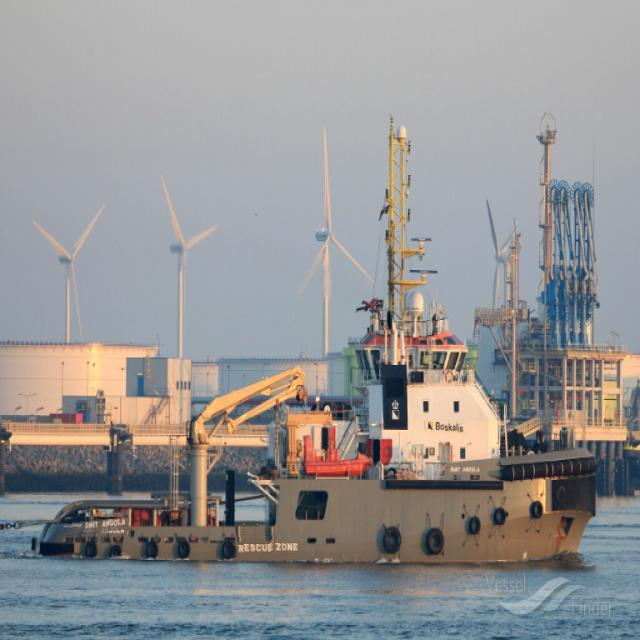OCR: (228, 532, 300, 558), (57, 518, 129, 538), (424, 416, 466, 436)
